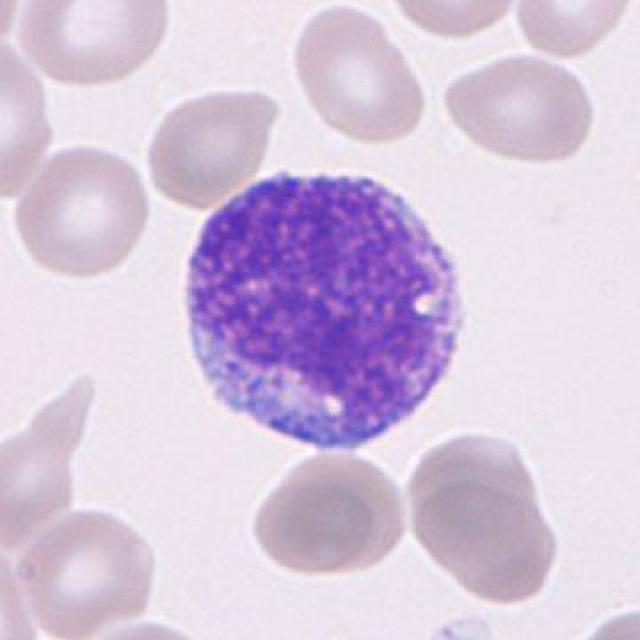RBC: (245, 446, 411, 582), (10, 138, 154, 282), (288, 2, 430, 146), (13, 505, 164, 638), (437, 50, 601, 169), (0, 364, 101, 552), (140, 82, 288, 210), (414, 482, 564, 606), (9, 2, 172, 89), (2, 34, 57, 201), (512, 0, 634, 60), (381, 0, 519, 43), (0, 535, 44, 638), (70, 615, 228, 638), (554, 597, 640, 638)
